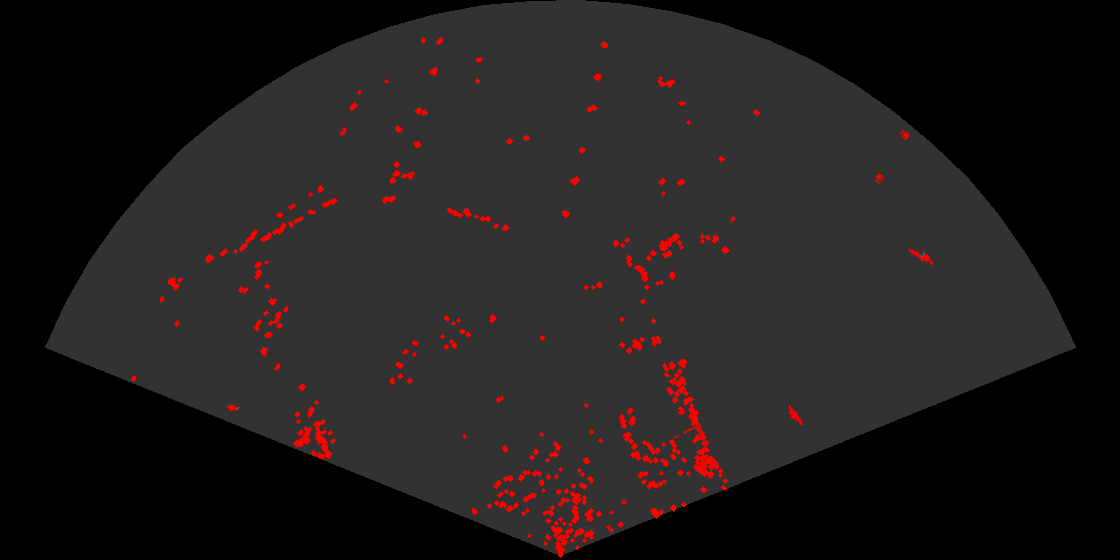AUV: (226, 403, 240, 411)
ball: (898, 128, 911, 142), (874, 172, 886, 185)
chain: (672, 423, 703, 440)
frogman: (906, 247, 933, 268), (786, 405, 804, 428)
